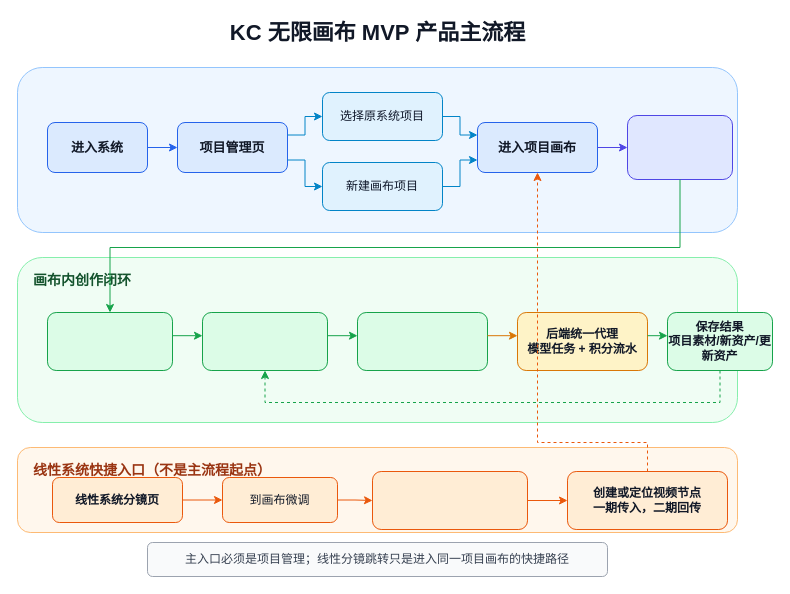
Some shapes in this 790 by 594 pixel diagram are drawn without their labels. Here are the shapes that lost their labels. From the top down, the box of each, then its label:
(16, 66, 738, 232): 项目级主入口
(626, 114, 732, 180): 加载项目上下文 资产/素材/积分/快照
(46, 312, 172, 370): 创建/上传节点 图片/视频/文本
(202, 312, 328, 370): 引用资产/素材 项目库/公共库
(356, 312, 488, 370): 节点生成/编辑 裁剪/多角度/分析
(372, 470, 528, 530): 携带 project_id / shot_id 定位项目画布
